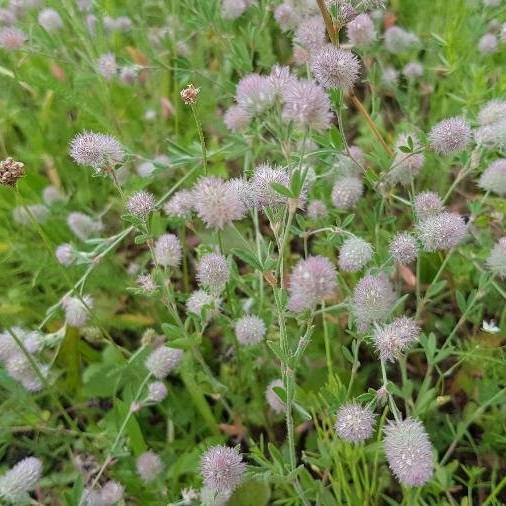obstacle: (132, 76, 450, 436)
